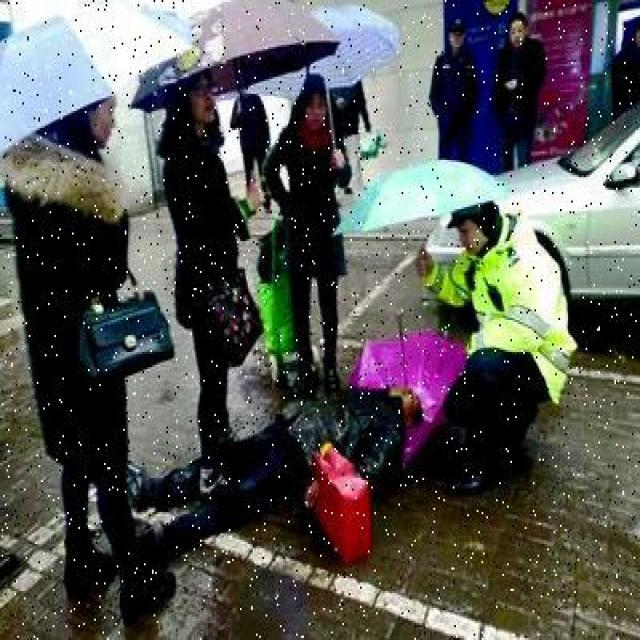fall: (142, 374, 418, 542)
